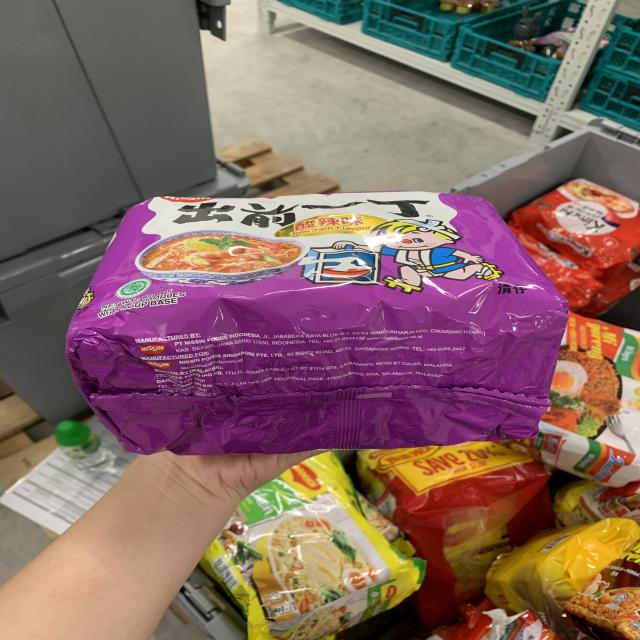object_name: (84, 199, 546, 429)
